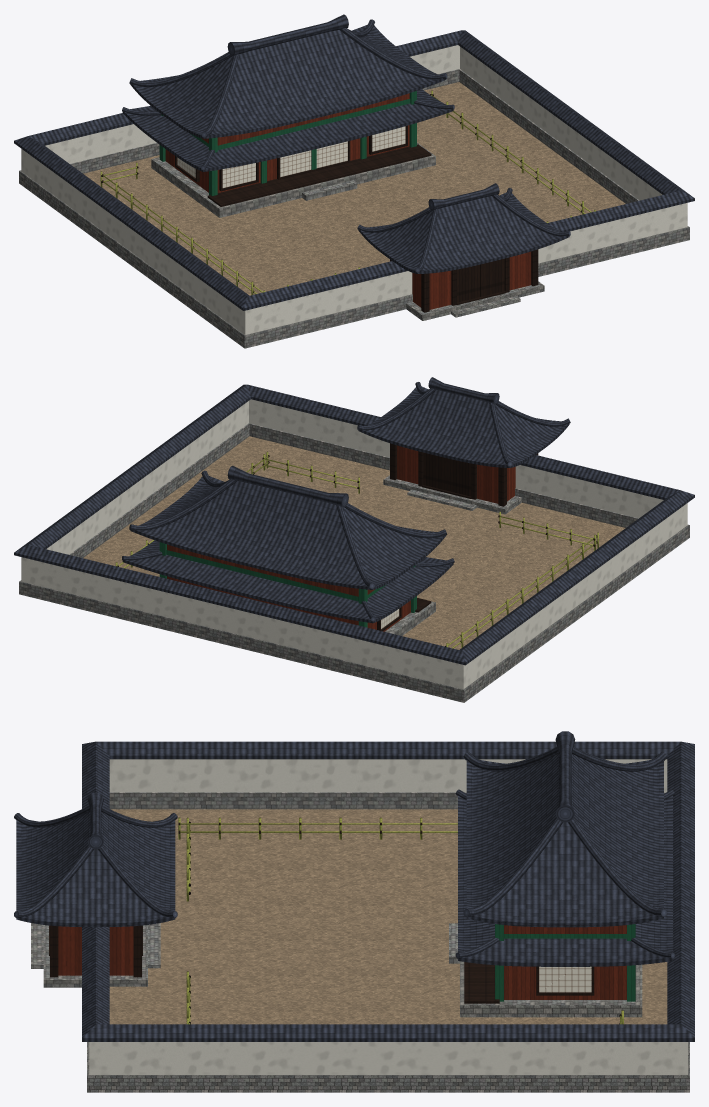
Rendered from Arena_Courtyard.fbx.
3 views of the same model, one above another, from view 1: azimuth 30°, elevation 25°; view 2: azimuth 150°, elevation 25°; view 3: azimuth 270°, elevation 25° (orthographic). The views are drawn at different scales.
Parts seen in each view (by area): view 1: Courtyard_Floor, Wall_Plaster, Hall_RoofUpper, Wall_TileCap, Wall_StoneBase, Gate_Roof, Hall_RoofLower, Hall_Plinth, Hall_Ridges, Hall_Deck, Hall_ShojiPanels, Hall_Body (+10 smaller); view 2: Wall_Plaster, Courtyard_Floor, Wall_TileCap, Hall_RoofUpper, Wall_StoneBase, Gate_Roof, Hall_RoofLower, Hall_Ridges, Gate_Ridges, Gate_Body, Hall_Body, Gate_Doors (+6 smaller); view 3: Courtyard_Floor, Wall_Plaster, Wall_TileCap, Hall_RoofUpper, Wall_StoneBase, Gate_Roof, Hall_RoofLower, Hall_Ridges, Hall_Plinth, Hall_Body, Gate_Ridges, Gate_Plinth (+9 smaller).
Boxes of the visible parts, x1,y1,x2,y2 form: Courtyard_Floor: (83,82,625,295); Wall_Plaster: (21,45,687,334); Hall_RoofUpper: (130,24,446,138); Wall_TileCap: (14,30,694,310); Wall_StoneBase: (19,69,689,348); Gate_Roof: (358,192,569,273); Hall_RoofLower: (122,89,453,171); Hall_Plinth: (151,142,435,217); Hall_Ridges: (129,14,447,137); Hall_Deck: (207,144,431,206); Hall_ShojiPanels: (177,126,405,188); Hall_Body: (165,93,409,192); Wall_Plaster: (21,399,687,689); Courtyard_Floor: (83,436,625,649); Wall_TileCap: (14,384,694,665); Hall_RoofUpper: (130,476,446,589); Wall_StoneBase: (19,423,689,702); Gate_Roof: (358,386,569,467); Hall_RoofLower: (122,540,453,623); Hall_Ridges: (129,465,447,588); Gate_Ridges: (357,377,570,466); Gate_Body: (397,445,515,503); Hall_Body: (167,544,410,631); Gate_Doors: (423,452,471,496); Courtyard_Floor: (109,809,667,1024); Wall_Plaster: (89,759,687,1074); Wall_TileCap: (82,741,694,1041); Hall_RoofUpper: (466,754,663,927); Wall_StoneBase: (87,792,689,1092); Gate_Roof: (16,811,175,926); Hall_RoofLower: (458,795,672,966); Hall_Ridges: (463,731,667,916); Hall_Plinth: (449,923,642,1017); Hall_Body: (504,925,626,999); Gate_Ridges: (14,792,177,917); Gate_Plinth: (31,923,160,987).
Size of what is drawn, in the model's own units: 3332 by 953 by 3258.
Materials: 10 (10 with a texture image).
